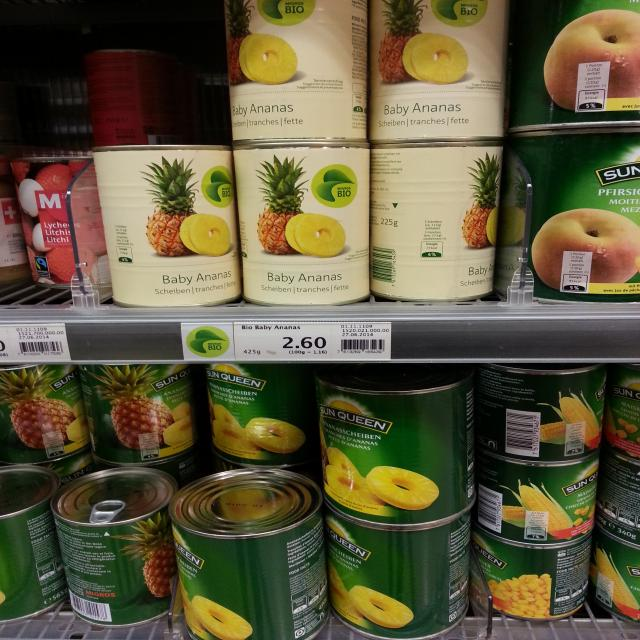Canned: (166, 461, 325, 640), (306, 365, 480, 520), (92, 144, 252, 311), (314, 481, 481, 640), (366, 134, 504, 307), (233, 139, 375, 305), (507, 127, 640, 304), (220, 0, 373, 152), (363, 0, 509, 145), (50, 465, 173, 622), (505, 0, 640, 129), (3, 155, 116, 293), (470, 357, 612, 465), (459, 524, 605, 624), (468, 450, 610, 550), (81, 365, 206, 465), (0, 461, 67, 627), (0, 365, 91, 466)
